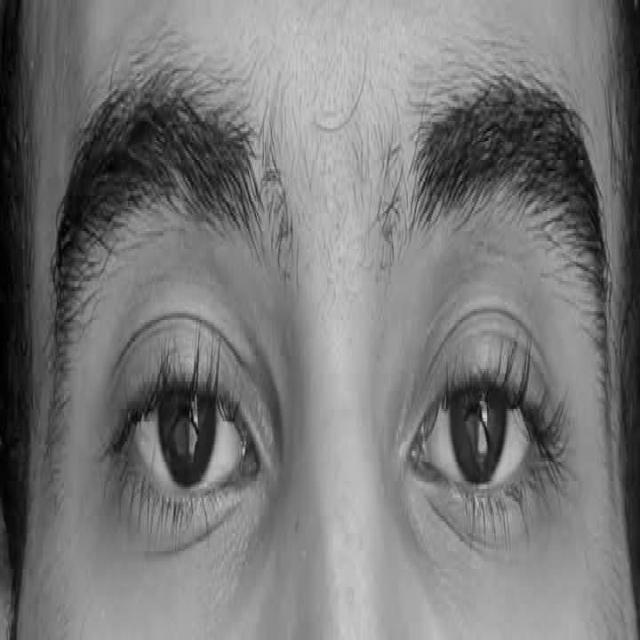real: (55, 159, 613, 611)
